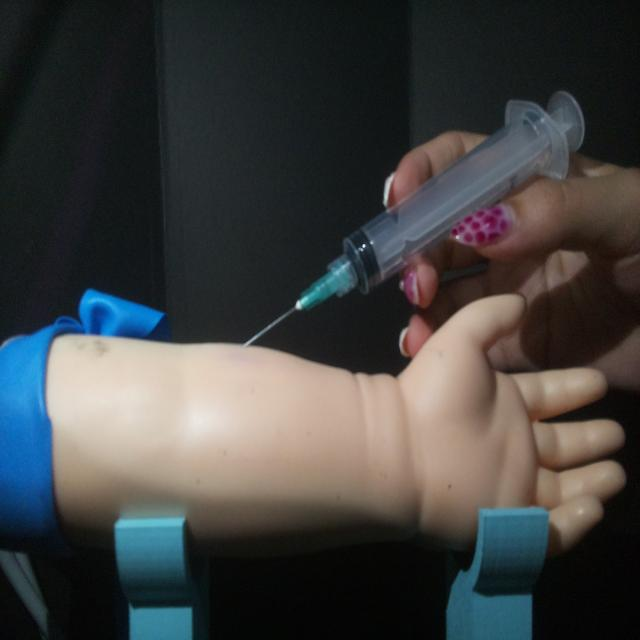30deg: (238, 85, 588, 351)
